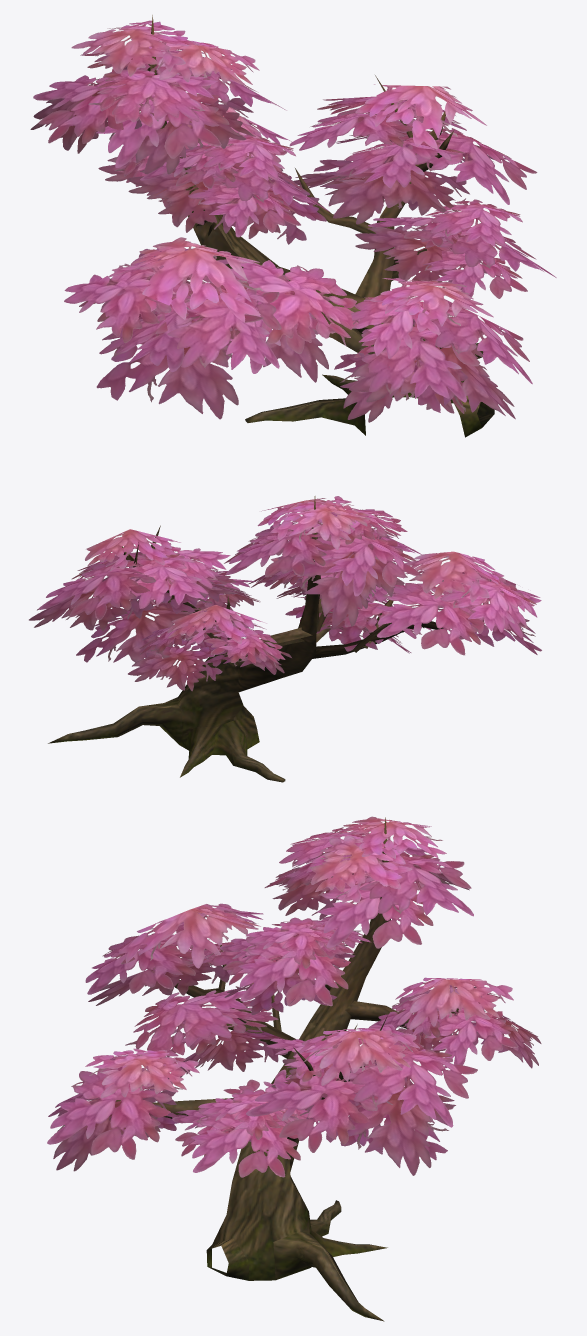
File: S_Tree_Red012_A1.FBX
3 renders of one model, top to bottom at view 1: azimuth 30°, elevation 25°; view 2: azimuth 150°, elevation 25°; view 3: azimuth 270°, elevation 25°, orthographic. The views are drawn at different scales.
Visible parts, largest first — view 1: S_Tree_Red012_A1_2, S_Tree_Red012_A1_1; view 2: S_Tree_Red012_A1_2, S_Tree_Red012_A1_1; view 3: S_Tree_Red012_A1_2, S_Tree_Red012_A1_1.
Part boxes in pixels (<box>): S_Tree_Red012_A1_2: <box>30,20,556,422</box>; S_Tree_Red012_A1_1: <box>147,15,494,437</box>; S_Tree_Red012_A1_2: <box>29,496,541,691</box>; S_Tree_Red012_A1_1: <box>48,496,443,782</box>; S_Tree_Red012_A1_2: <box>47,816,541,1177</box>; S_Tree_Red012_A1_1: <box>115,817,458,1321</box>.
Bounding box in the file's own units: 684 × 453 × 637.
